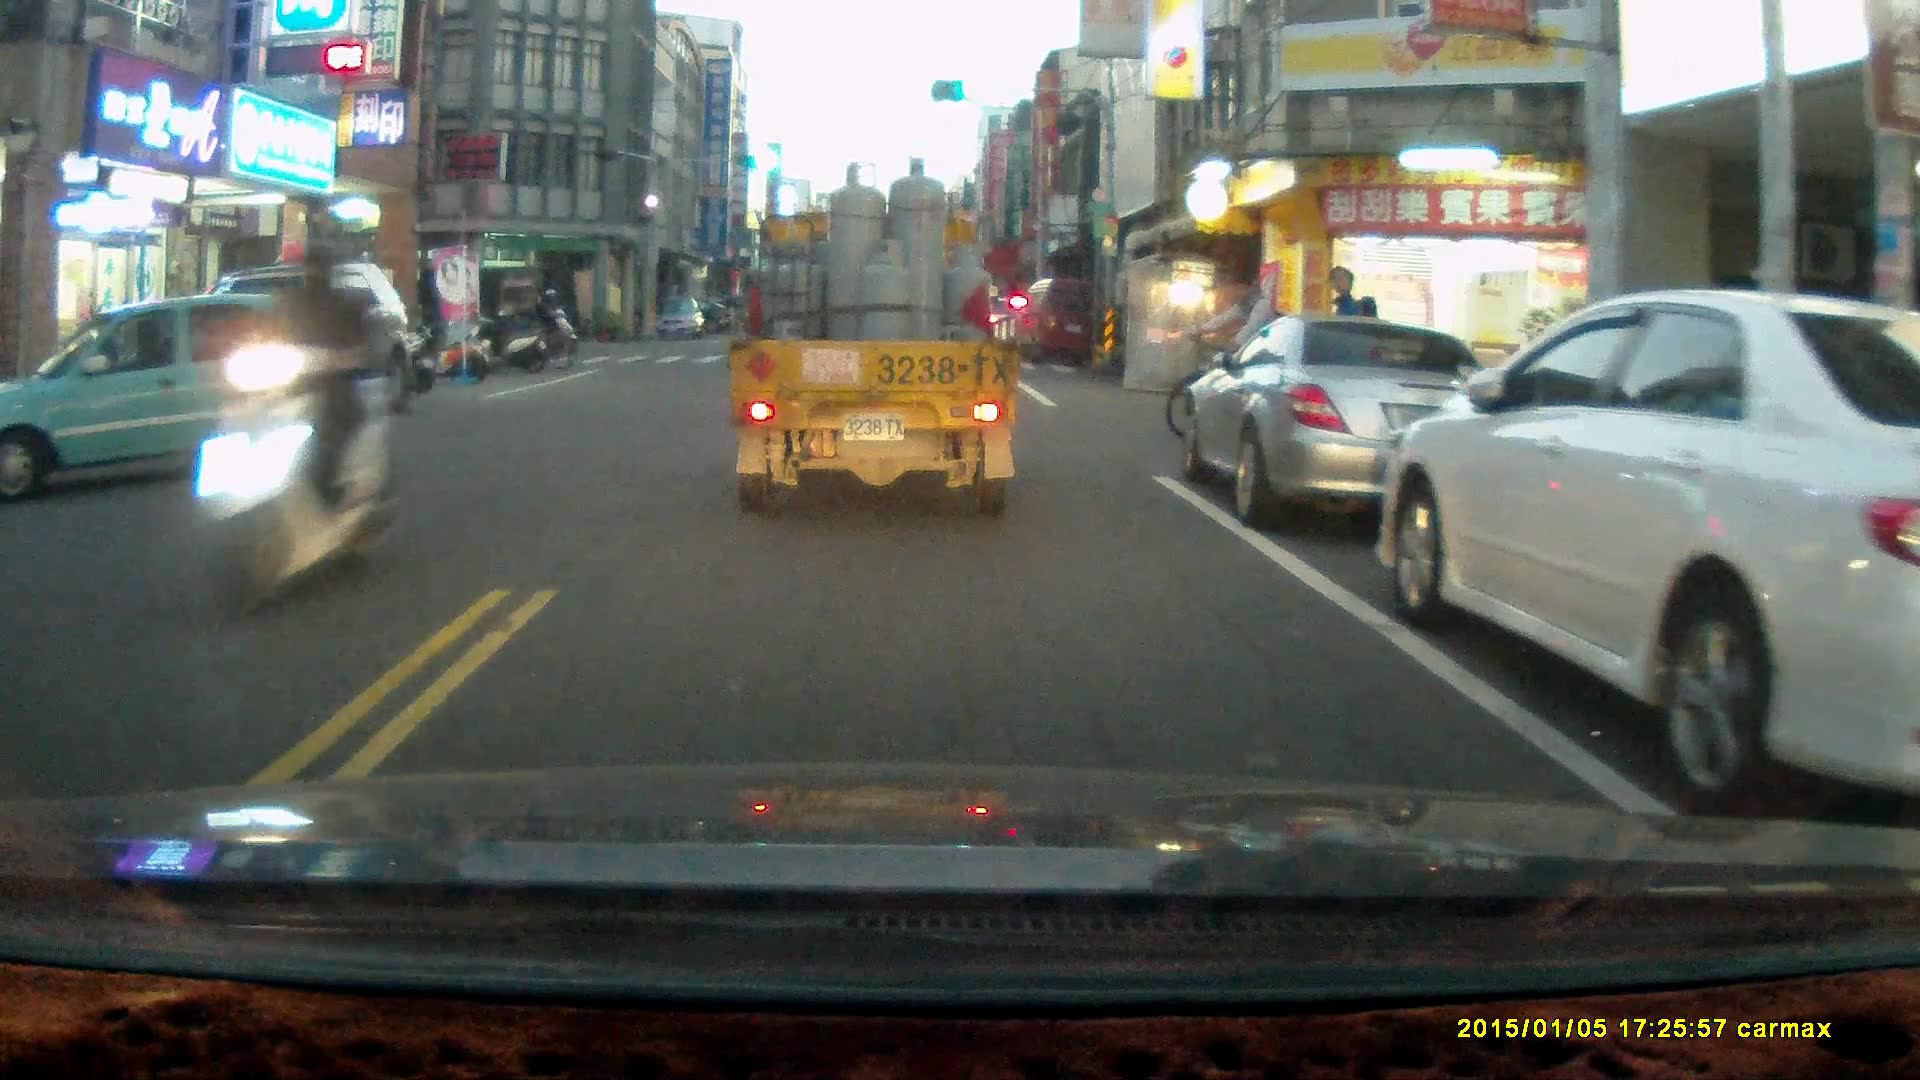rider: (194, 235, 394, 628), (1166, 271, 1326, 450), (518, 285, 581, 358)
vehicle: (1384, 283, 1920, 796), (730, 158, 1021, 518), (1181, 315, 1523, 524), (1, 290, 335, 492), (333, 261, 542, 365), (1019, 271, 1122, 364), (654, 296, 708, 341)
